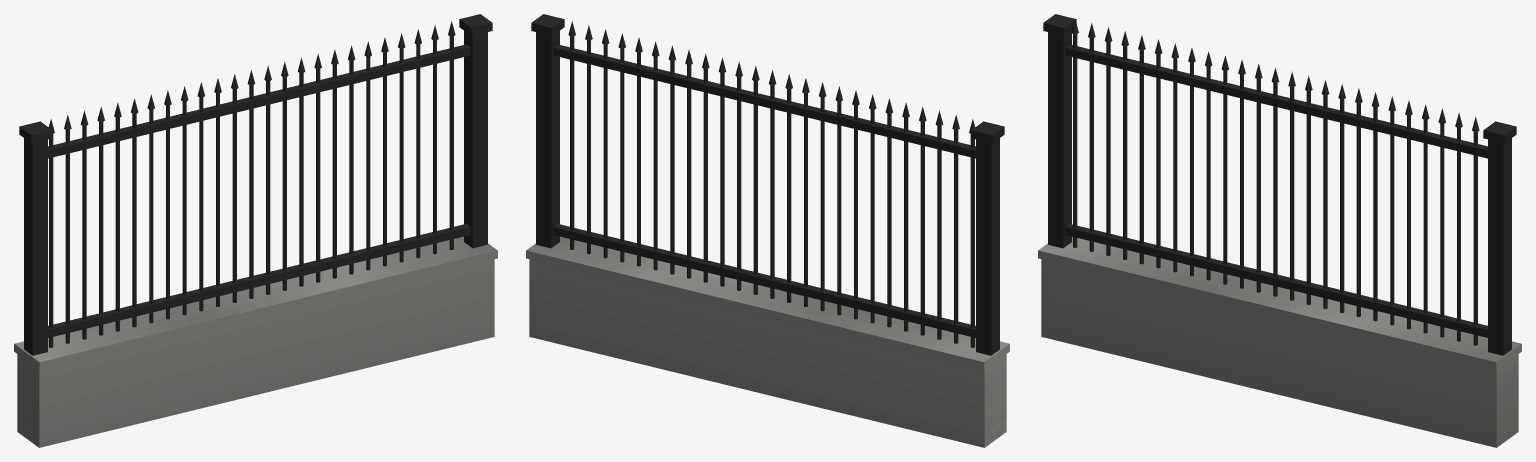
File: valla_enrejado_lod0.glb
3 renders of one model, left to right at view 1: azimuth 30°, elevation 25°; view 2: azimuth 150°, elevation 25°; view 3: azimuth 330°, elevation 25°, orthographic.
Parts seen in each view (by area): view 1: Pieza_MAT_Concreto, Pieza_MAT_Valla_Hierro_Negro; view 2: Pieza_MAT_Concreto, Pieza_MAT_Valla_Hierro_Negro; view 3: Pieza_MAT_Concreto, Pieza_MAT_Valla_Hierro_Negro.
Part boxes in pixels (bbox=[...]): Pieza_MAT_Concreto: bbox=[14, 236, 497, 447]; Pieza_MAT_Valla_Hierro_Negro: bbox=[19, 14, 492, 355]; Pieza_MAT_Concreto: bbox=[526, 236, 1009, 447]; Pieza_MAT_Valla_Hierro_Negro: bbox=[531, 14, 1004, 355]; Pieza_MAT_Concreto: bbox=[1038, 236, 1521, 447]; Pieza_MAT_Valla_Hierro_Negro: bbox=[1043, 14, 1516, 355].
Size of the model in its own units: 3.04 by 1.99 by 0.29.
Materials: 2 (1 with a texture image).
